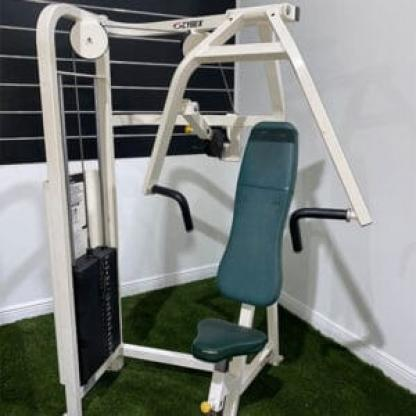Chest Press machine: (36, 0, 378, 416)
